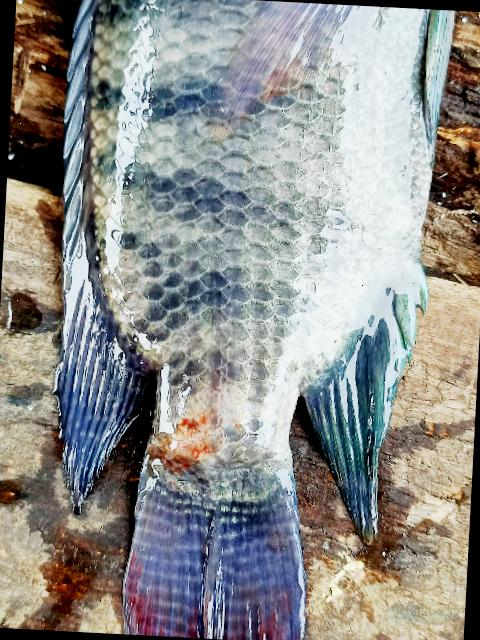Edwardsiella Ictaluri -Bacterial Red Disease-: (55, 0, 454, 640)
